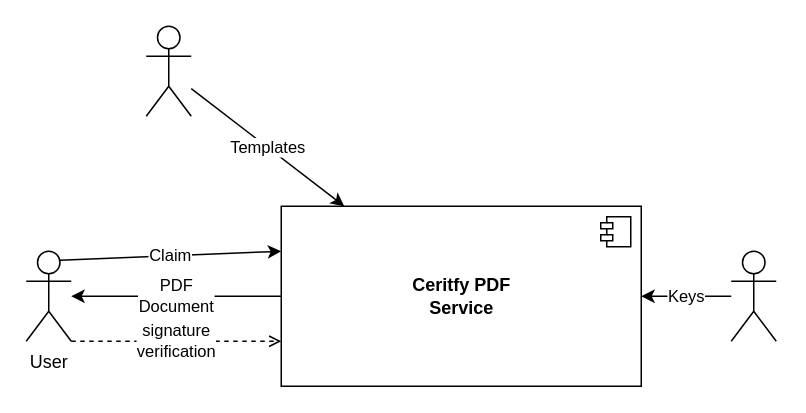
This 806x413 diagram has some shape labels left out. The centre of each missing label's shape, as x and y in pixels:
Admin: point 753,295
Org Admin: point 168,70
